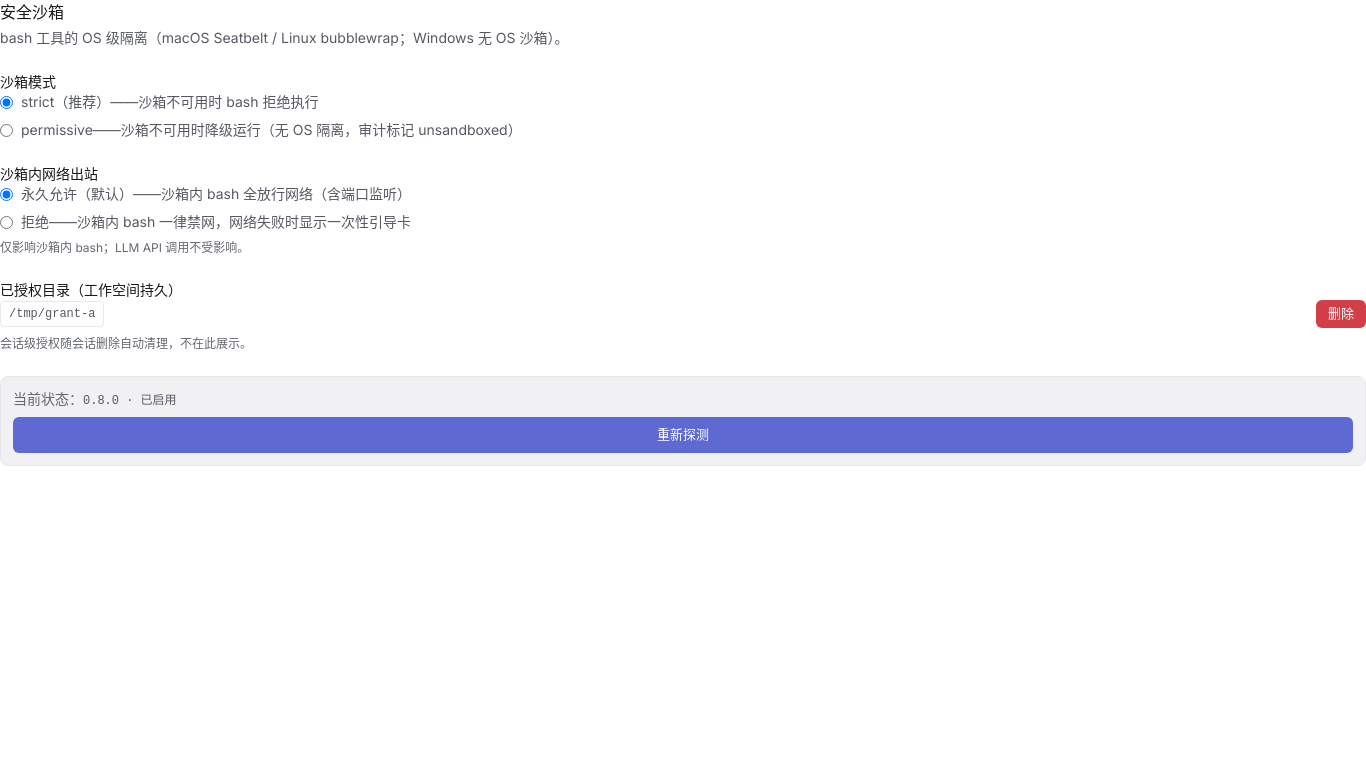
SandboxSettingsPanel：已授权目录 › 列出工作空间持久授权 + 删除经确认弹窗后才调 revokeWrite（红色危险按钮）
The width and height of the screenshot is (1366, 768).
Check: the text "/tmp/grant-a" is shown, box top-left (0, 301), bottom-right (104, 327)
Click the button "删除": [1341, 314] box top-left (1316, 300), bottom-right (1365, 328)
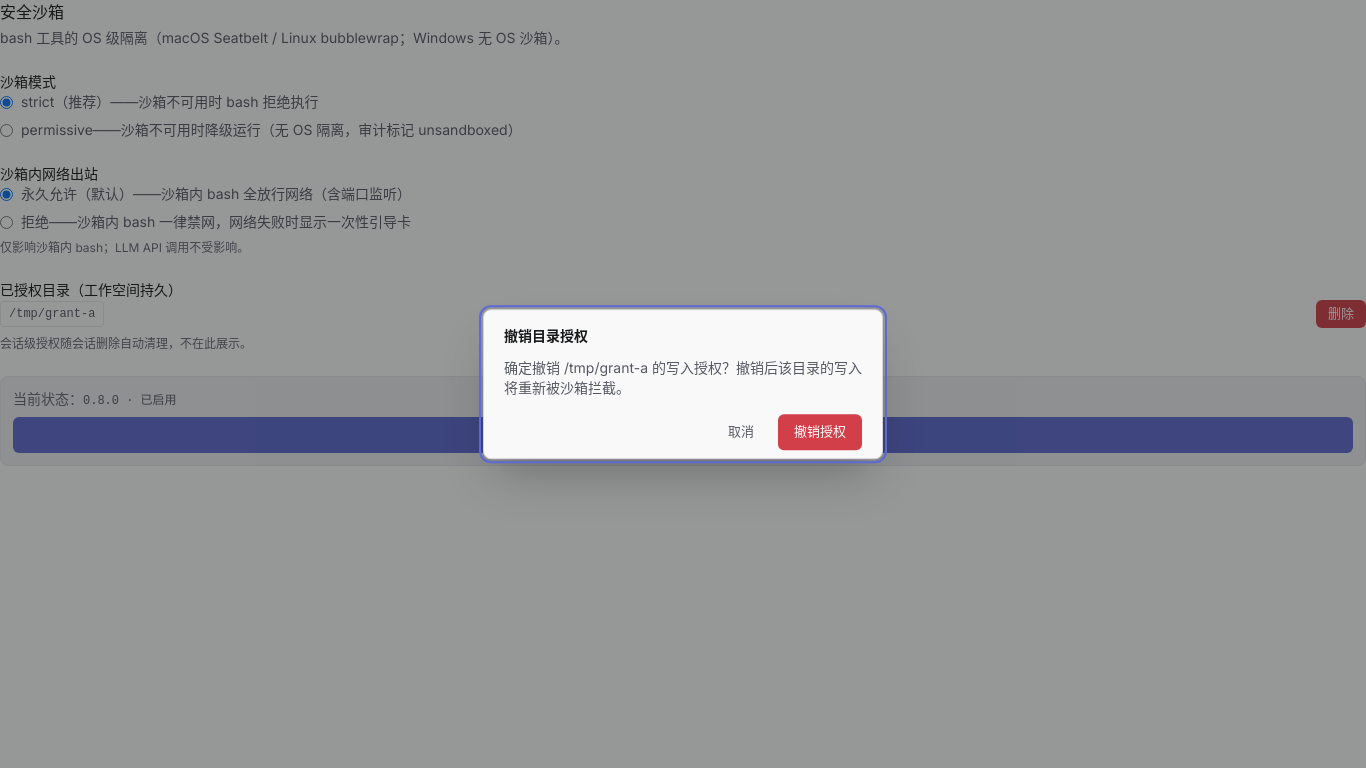
Check: the text "确定撤销 /tmp/grant-a 的写入授权？撤销后该目录的写入将重新被沙箱拦截。" is shown, box top-left (504, 358), bottom-right (862, 398)
Click the button "撤销授权": [820, 432] box top-left (778, 414), bottom-right (862, 450)
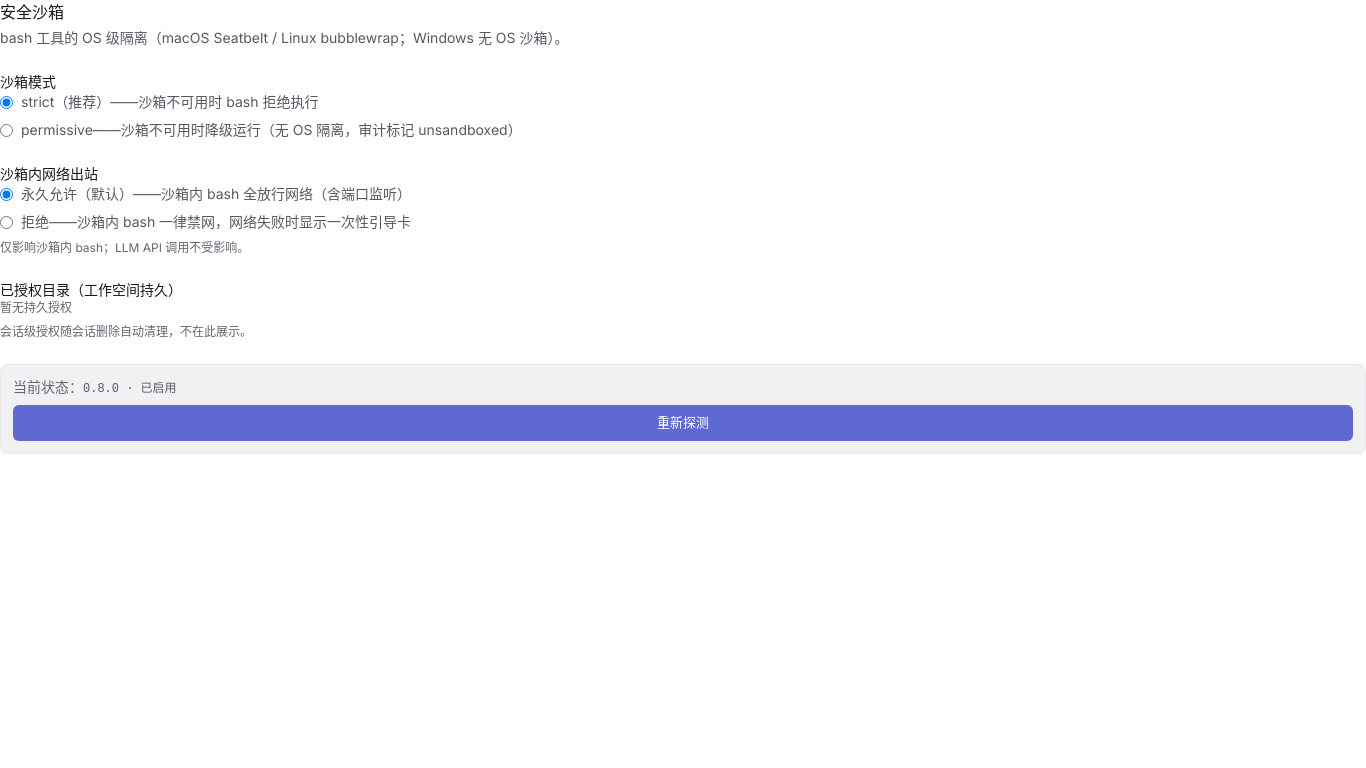
Check: the text "/tmp/grant-a" is gone
